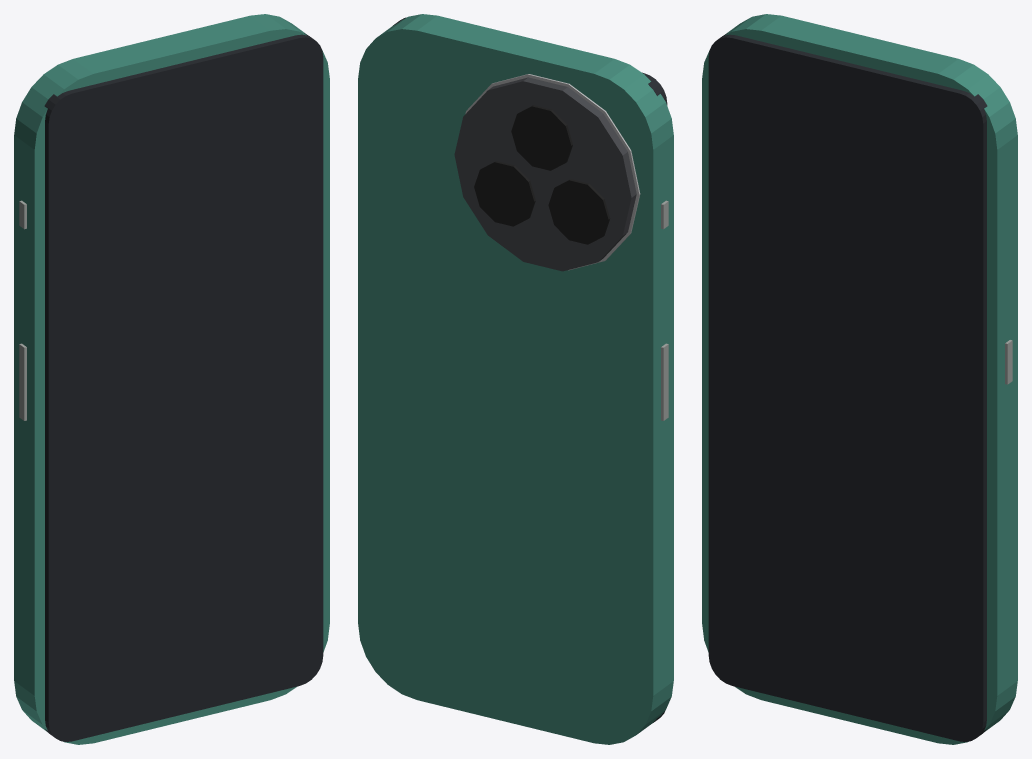
The model's file is 39_oneplus_oneplus_12.glb.
3 views of the same model, side by side, from view 1: azimuth 30°, elevation 25°; view 2: azimuth 150°, elevation 25°; view 3: azimuth 330°, elevation 25° (orthographic).
Parts seen in each view (by area): view 1: geometry_1, geometry_0, geometry_3; view 2: geometry_0, geometry_6, geometry_10, geometry_12, geometry_8, geometry_7, geometry_3; view 3: geometry_1, geometry_0.
Boxes of the visible parts, x1=… form: geometry_1: x1=44, y1=33, x2=323, y2=741; geometry_0: x1=14, y1=14, x2=329, y2=744; geometry_3: x1=19, y1=343, x2=26, y2=420; geometry_0: x1=358, y1=14, x2=673, y2=744; geometry_6: x1=454, y1=77, x2=636, y2=271; geometry_10: x1=548, y1=179, x2=610, y2=244; geometry_12: x1=474, y1=161, x2=535, y2=226; geometry_8: x1=511, y1=105, x2=572, y2=170; geometry_7: x1=465, y1=74, x2=640, y2=270; geometry_3: x1=661, y1=343, x2=668, y2=420; geometry_1: x1=708, y1=33, x2=987, y2=741; geometry_0: x1=702, y1=14, x2=1017, y2=744.
Size of the model in its own units: 0.2462 by 0.5272 by 0.0456.
